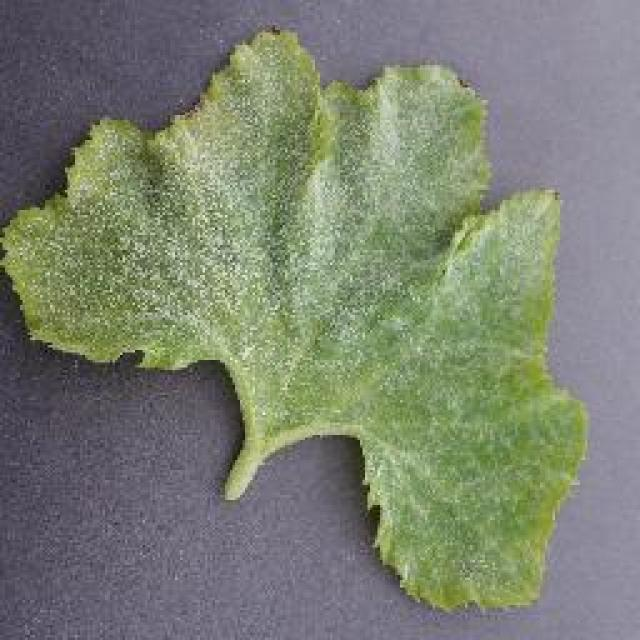Squ_Powdery_mildew: (96, 106, 473, 384)
